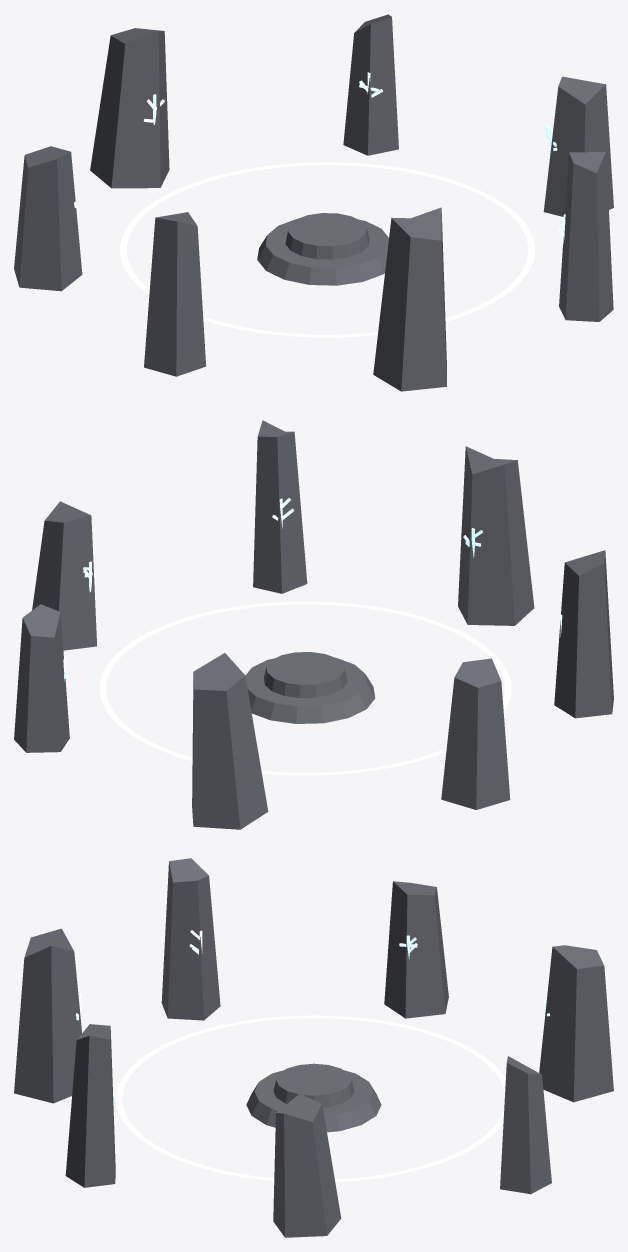
File: rune_circle.glb
3 views of the same model, one above another, from view 1: azimuth 30°, elevation 25°; view 2: azimuth 150°, elevation 25°; view 3: azimuth 270°, elevation 25° (orthographic). The views are drawn at different scales.
Parts seen in each view (by area): view 1: rune_circle; view 2: rune_circle; view 3: rune_circle.
Boxes of the visible parts, x1,y1,x2,y2 form: rune_circle: (14,14,613,391); rune_circle: (14,420,613,829); rune_circle: (14,858,613,1237).
Bounding box in the file's own units: 21.56 × 6.35 × 22.18.
